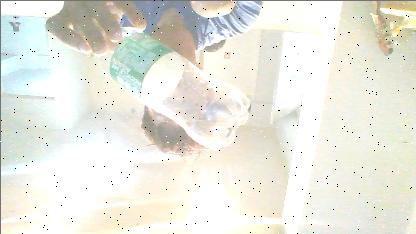Plastic Bottle: (95, 23, 254, 149)
